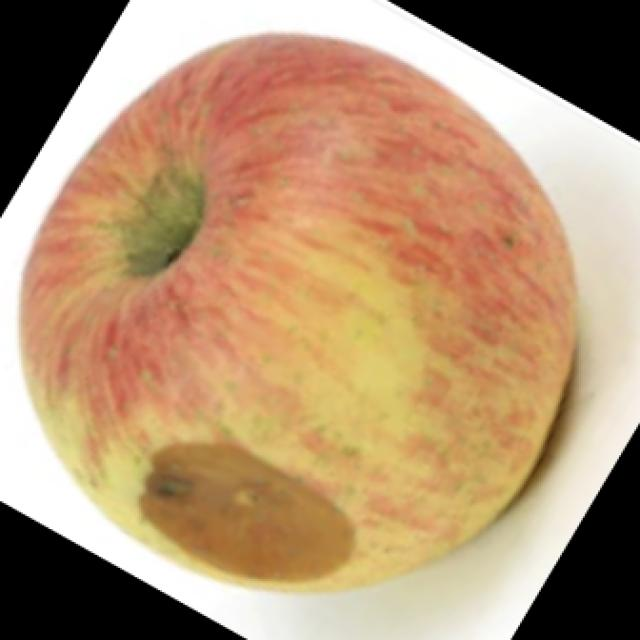Rotten: (9, 24, 588, 599)
